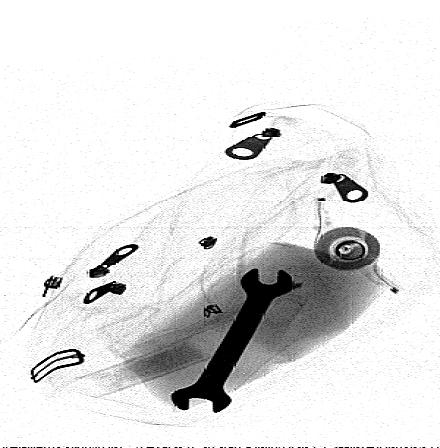Wrench: (168, 266, 297, 414)
